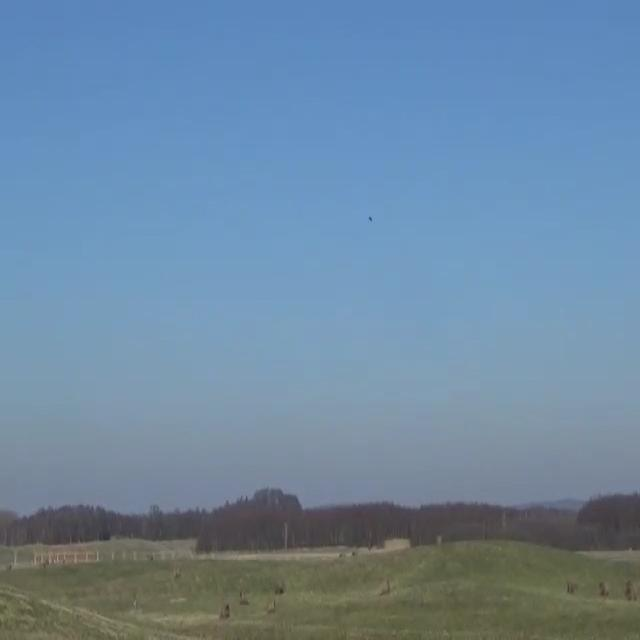bird: (366, 212, 375, 226)
